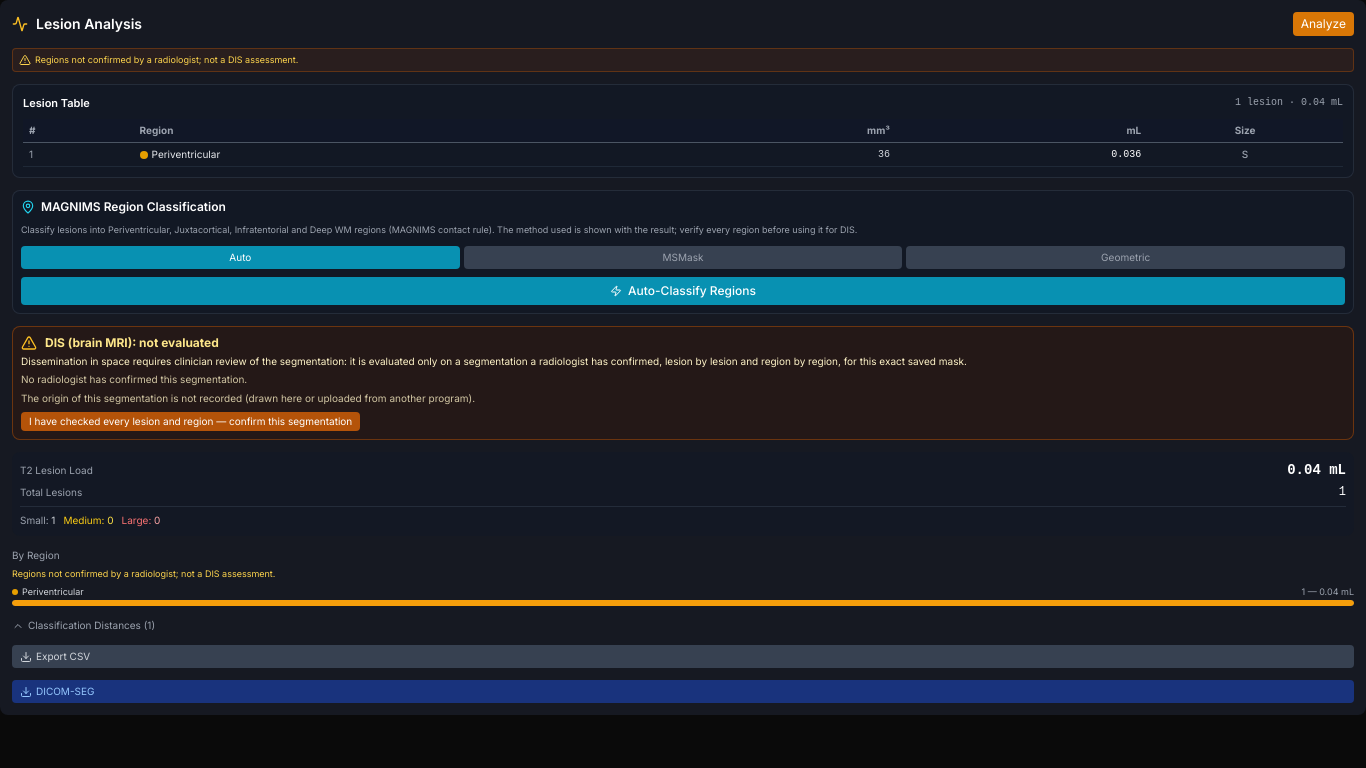
Scenario: PRB-030: Confirm only while the image under the mask is on the mask grid › rc092 prb030 refused when it cannot be checked: nothing published about the image under the mask
The image size is (1366, 768).
Click the button "confirm this segmentation". click: (191, 422)
box: [21,412,360,431]
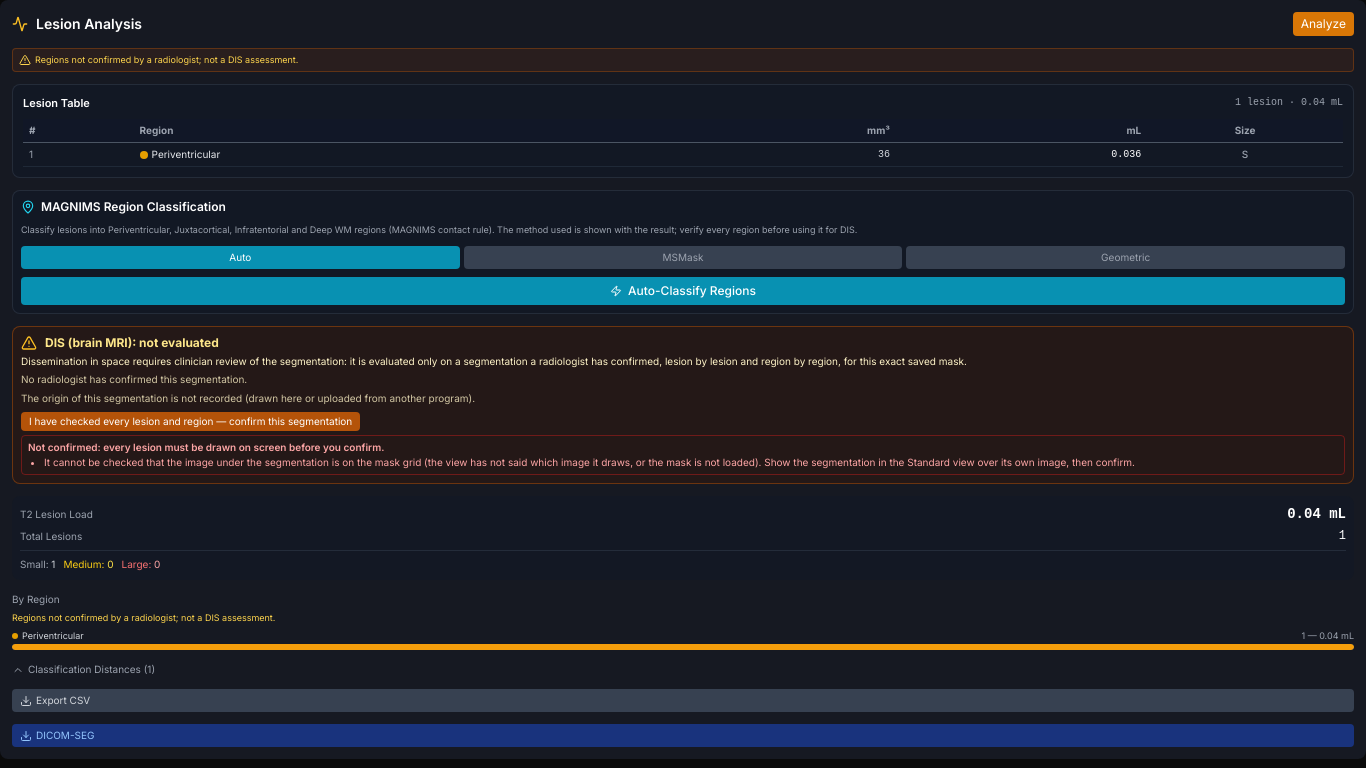
Expected: the message with test id "dis-confirm-refused" shows "image under the segmentation", [44,456,1135,468]
